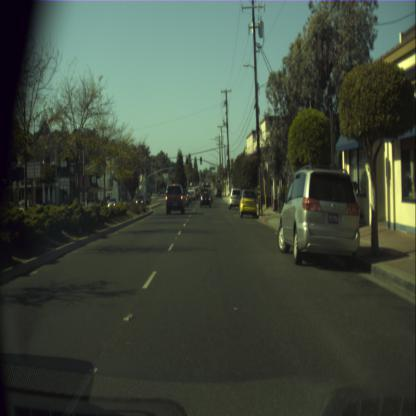Green: (200, 156, 202, 164), (230, 170, 232, 178), (225, 172, 226, 179)
Red: (186, 156, 188, 163)
